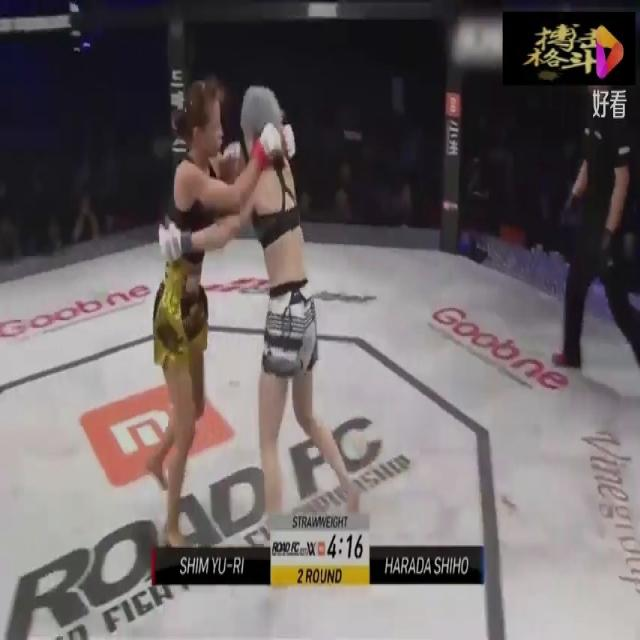fight: (128, 66, 352, 574)
non-fight: (546, 87, 639, 392)
